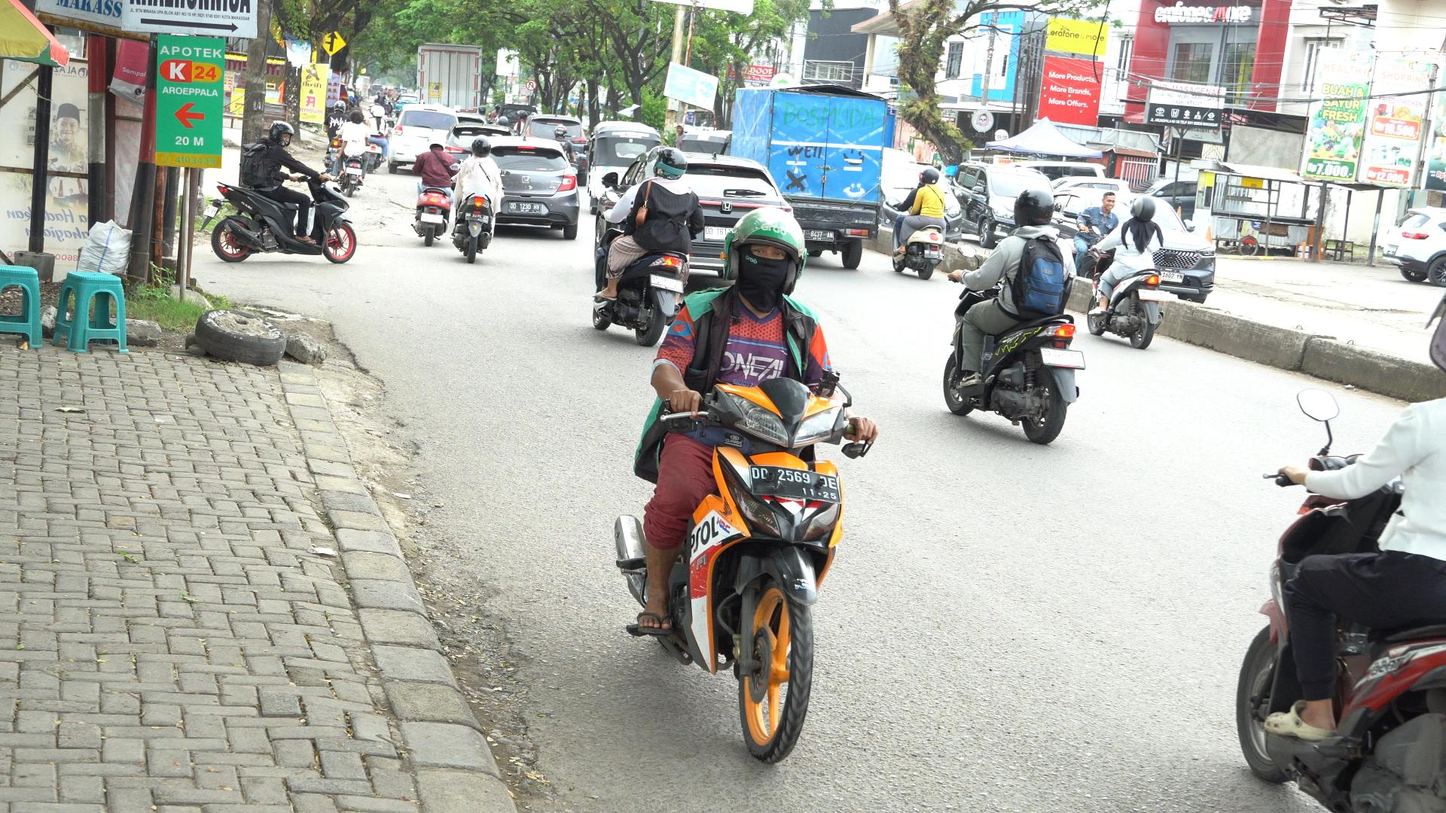number-plate: (743, 460, 845, 504)
